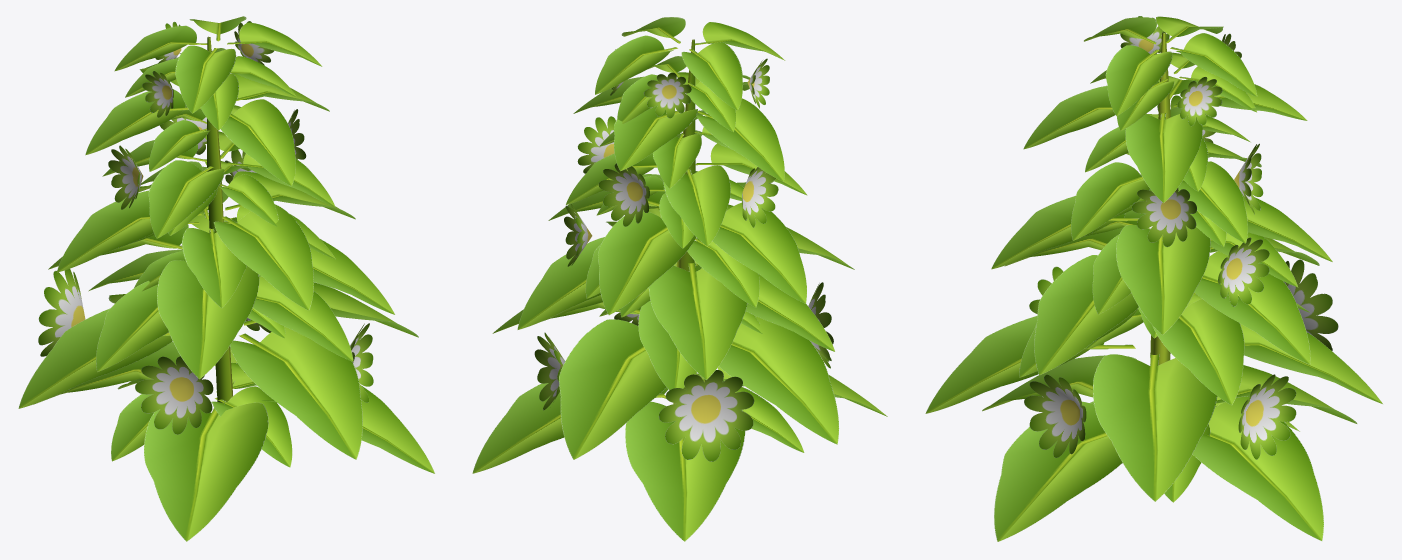
Rendered from Plant_01.FBX.
3 renders of one model, left to right at view 1: azimuth 30°, elevation 25°; view 2: azimuth 150°, elevation 25°; view 3: azimuth 270°, elevation 25°, orthographic. The views are drawn at different scales.
Visible parts, largest first — view 1: Plant_01; view 2: Plant_01; view 3: Plant_01.
Part boxes in pixels (box(x1,y1,x2,y2)): Plant_01: box(18, 16, 434, 541); Plant_01: box(472, 17, 887, 541); Plant_01: box(925, 16, 1382, 541).
Size of the model in its own units: 111 by 117 by 112.
1 material, 1 textured.
